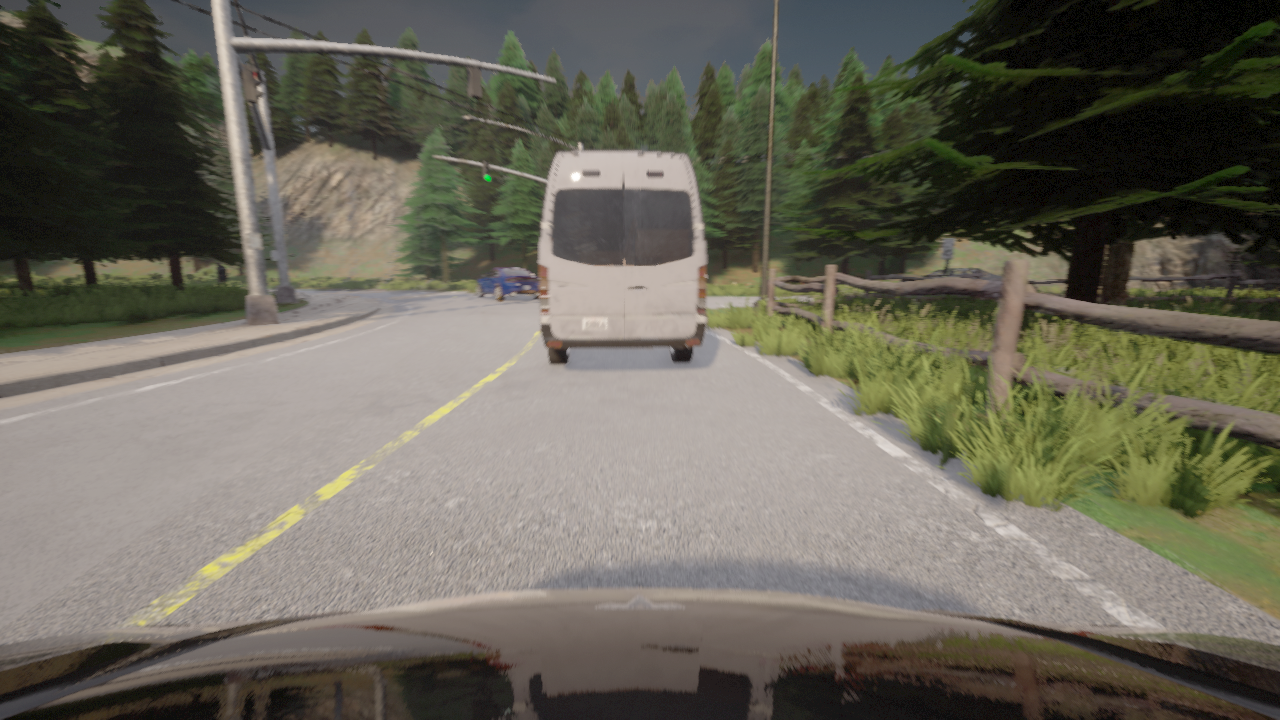cyclist: (0, 588, 1279, 719), (539, 150, 706, 363), (476, 267, 539, 300), (899, 268, 1001, 282)
pedestrian: (216, 261, 226, 285)
